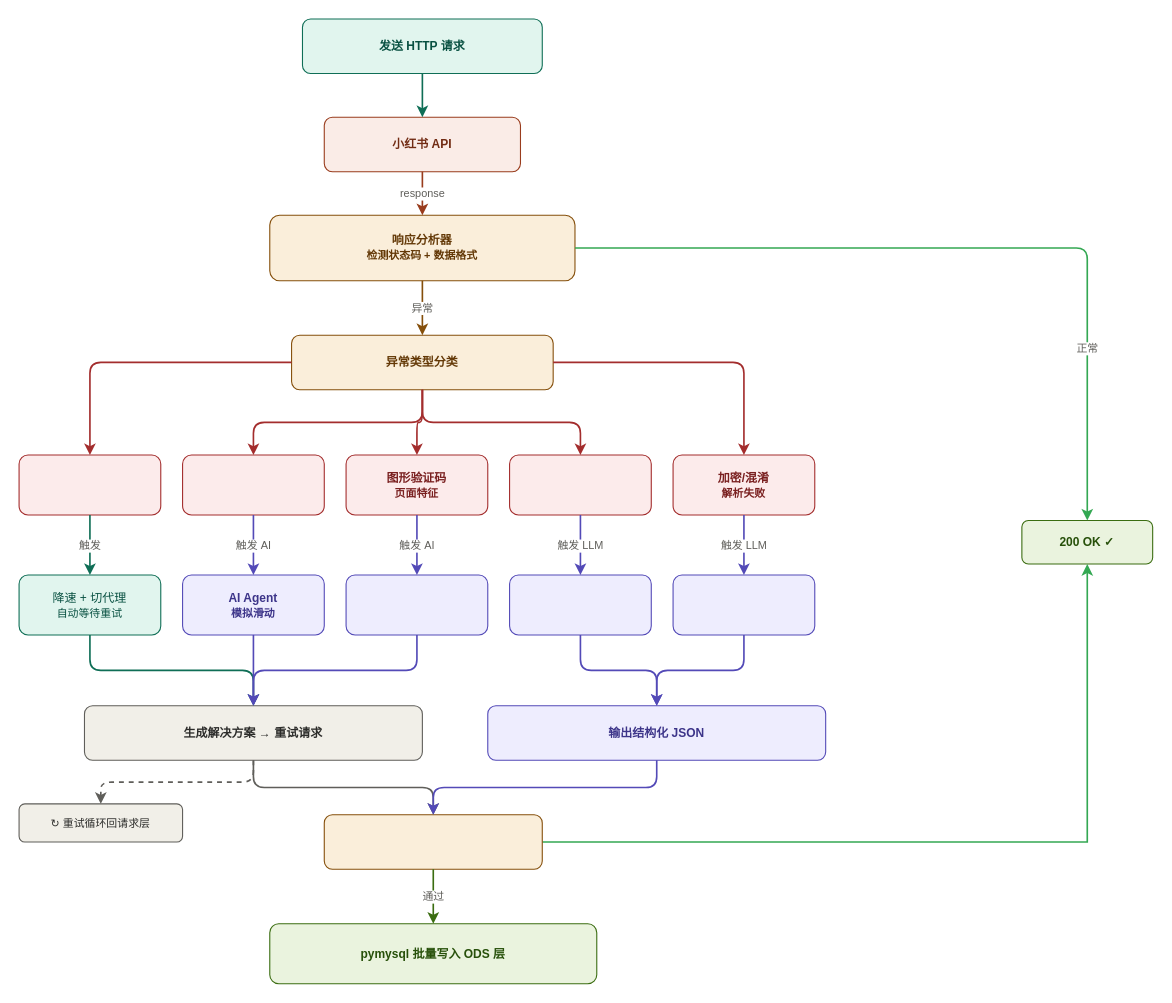
Image size: 1172x1003. Some labels were removed from this diagram. The shapes that lost their labels are listed below. From the top down, each one's centre as x and y in pixels, then its label:
At pixel 89 484: "HTTP 403/429 频率限制".
At pixel 252 484: "滑块验证码 页面特征".
At pixel 579 484: "脏数据 格式异常".
At pixel 416 604: "AI Agent OCR 识别".
At pixel 579 604: "LLM 清洗 结构化提取".
At pixel 743 604: "LLM 解析 动态解码".
At pixel 432 841: "数据质量检查".
